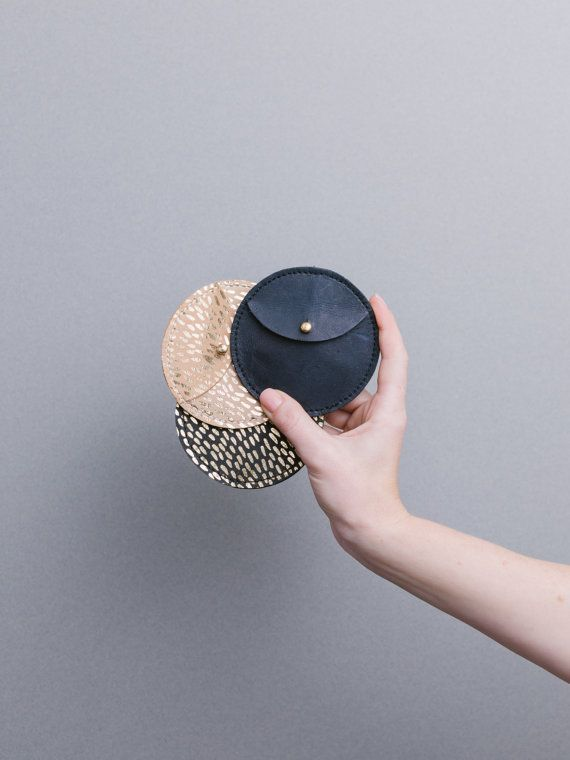cuero: (161, 266, 380, 491)
